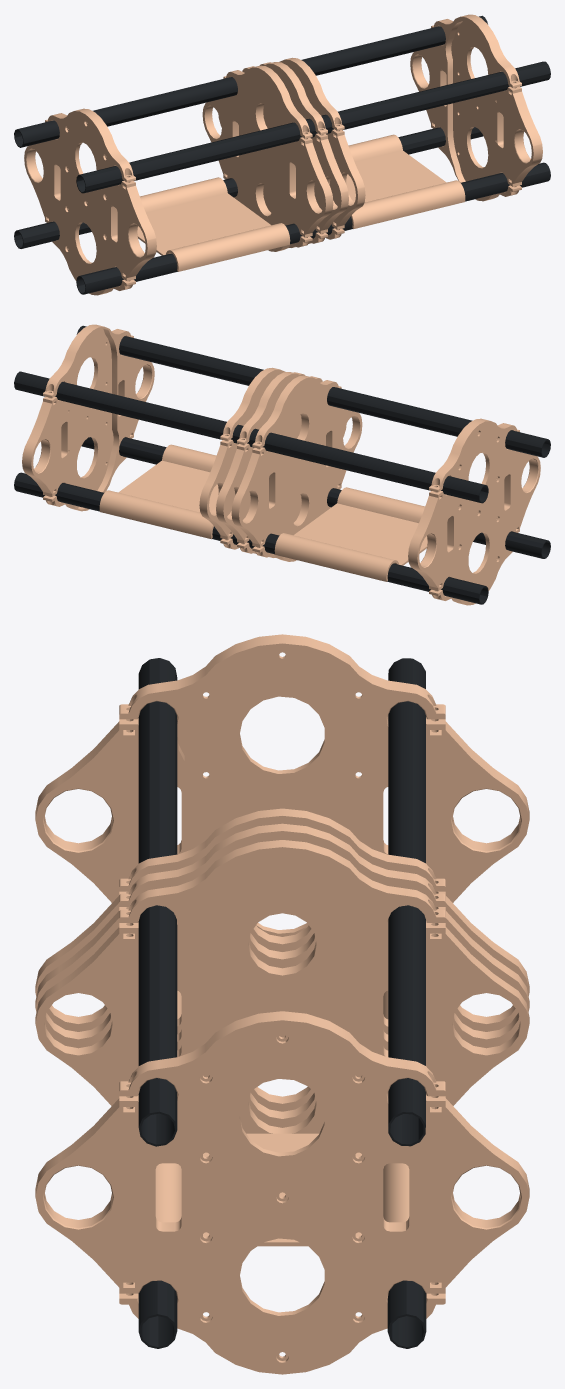
The picture shows the model from 3 angles, top to bottom: view 1: azimuth 30°, elevation 25°; view 2: azimuth 150°, elevation 25°; view 3: azimuth 270°, elevation 25°; orthographic projection. The views are drawn at different scales.
Parts seen in each view (by area): view 1: tmp_export_base_link.001; view 2: tmp_export_base_link.001; view 3: tmp_export_base_link.001.
Boxes of the visible parts, left/top/right/bottom form: tmp_export_base_link.001: left=14, top=14, right=550, bottom=295; tmp_export_base_link.001: left=14, top=324, right=550, bottom=605; tmp_export_base_link.001: left=35, top=634, right=529, bottom=1374.
Bounding box in the file's own units: 0.5 × 0.23 × 0.182.
